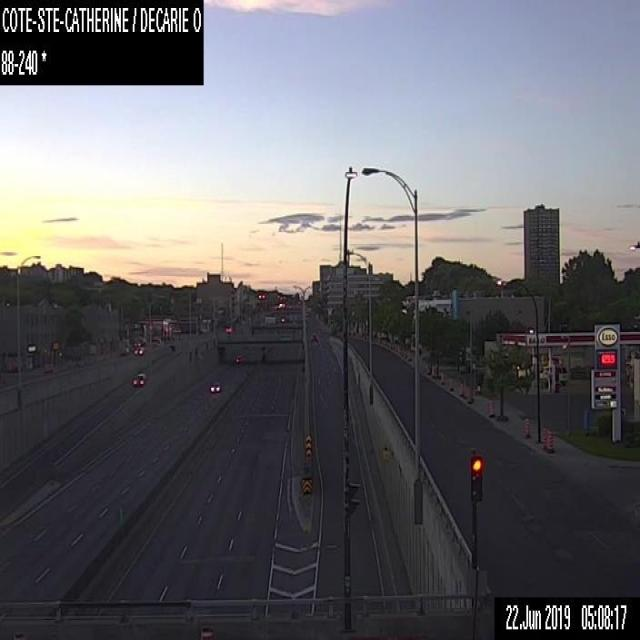construction: (541, 427, 546, 448), (547, 429, 552, 450), (524, 417, 529, 435), (489, 399, 494, 415), (460, 382, 462, 394), (450, 377, 452, 388), (441, 372, 443, 382)
vehicle: (133, 372, 145, 386), (210, 382, 220, 392), (134, 345, 143, 355), (235, 354, 243, 362), (311, 332, 318, 341)
